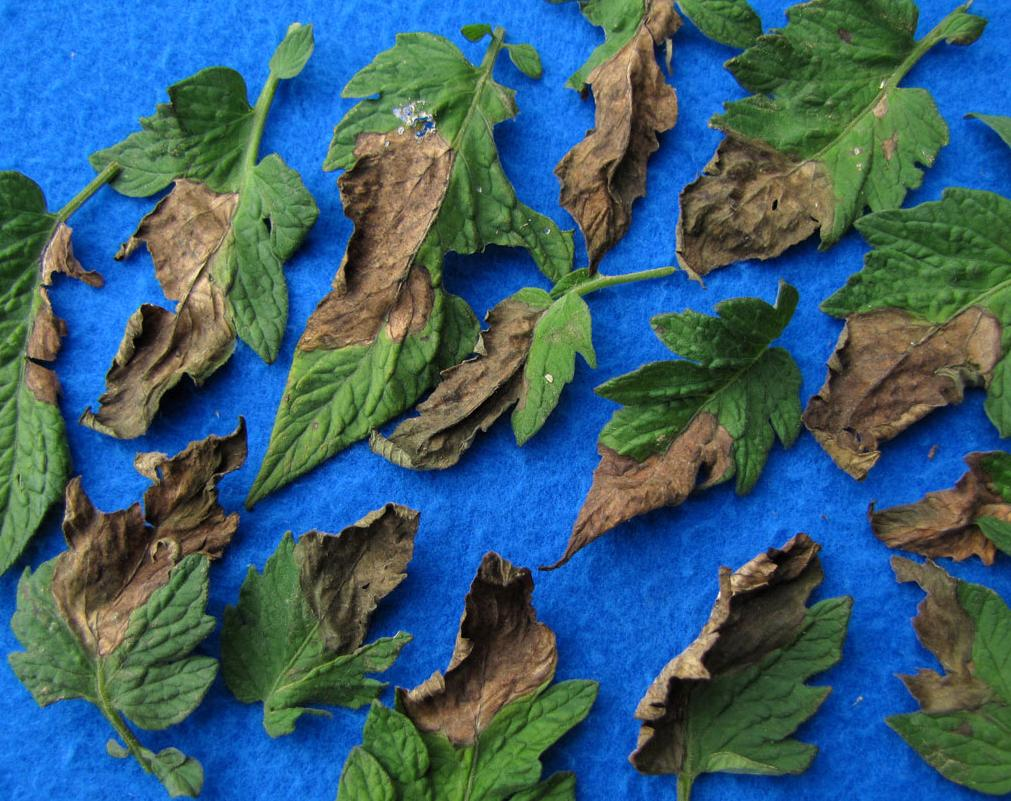Tomato leaf late blight: (263, 34, 505, 487), (8, 420, 258, 792), (87, 32, 310, 447), (673, 3, 976, 273), (311, 559, 594, 801), (616, 525, 857, 801), (565, 292, 816, 535), (190, 498, 453, 723), (366, 275, 638, 479), (0, 154, 95, 602), (889, 553, 1011, 801), (862, 443, 1011, 573)
